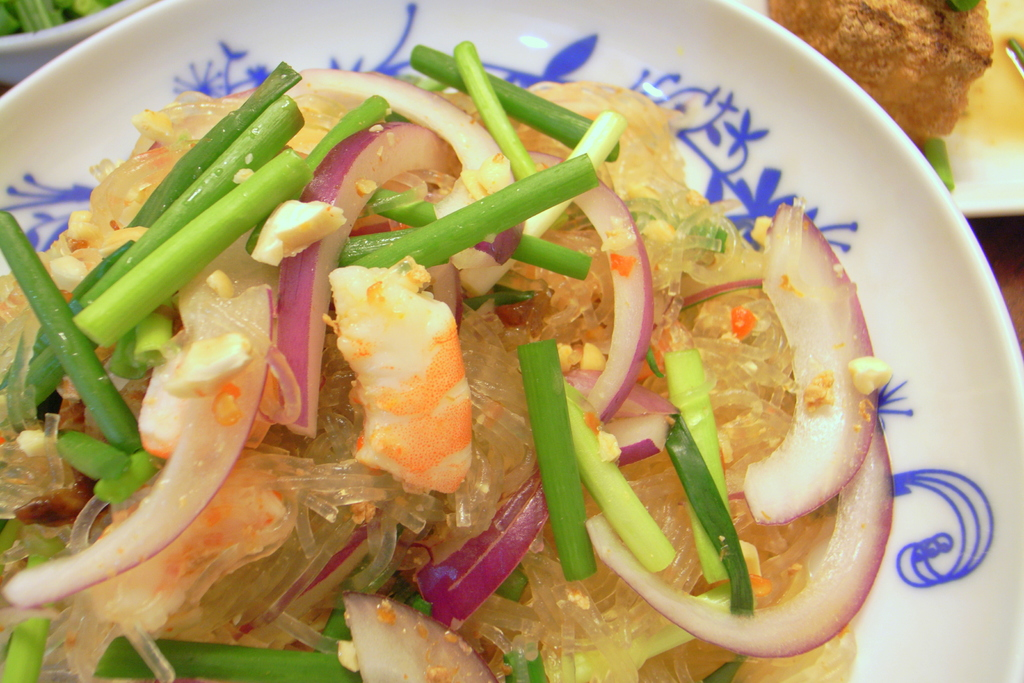salad: (0, 28, 899, 682)
